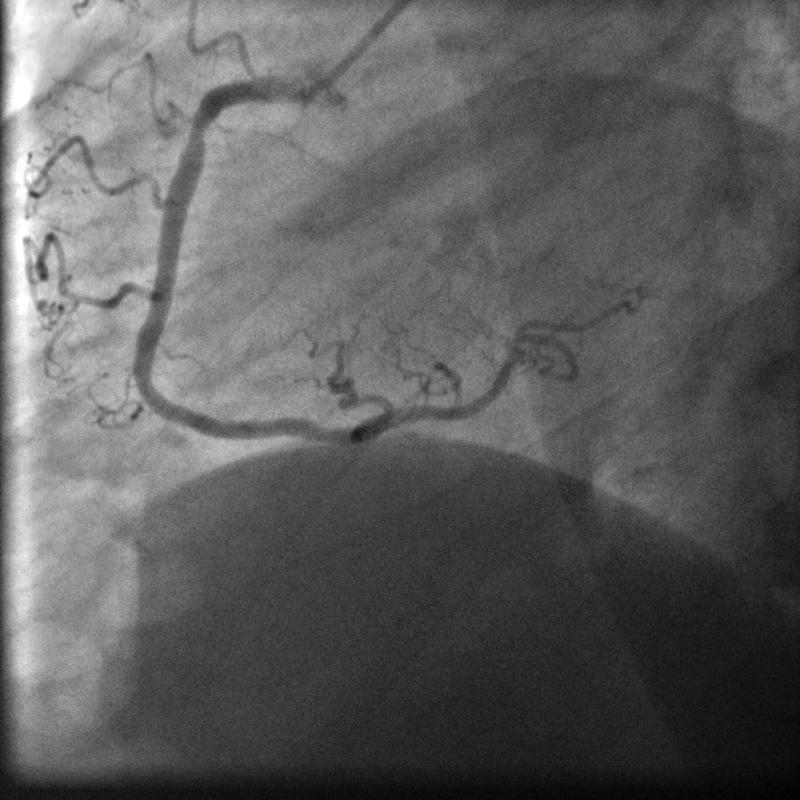Stenosis: (186, 92, 212, 151)
